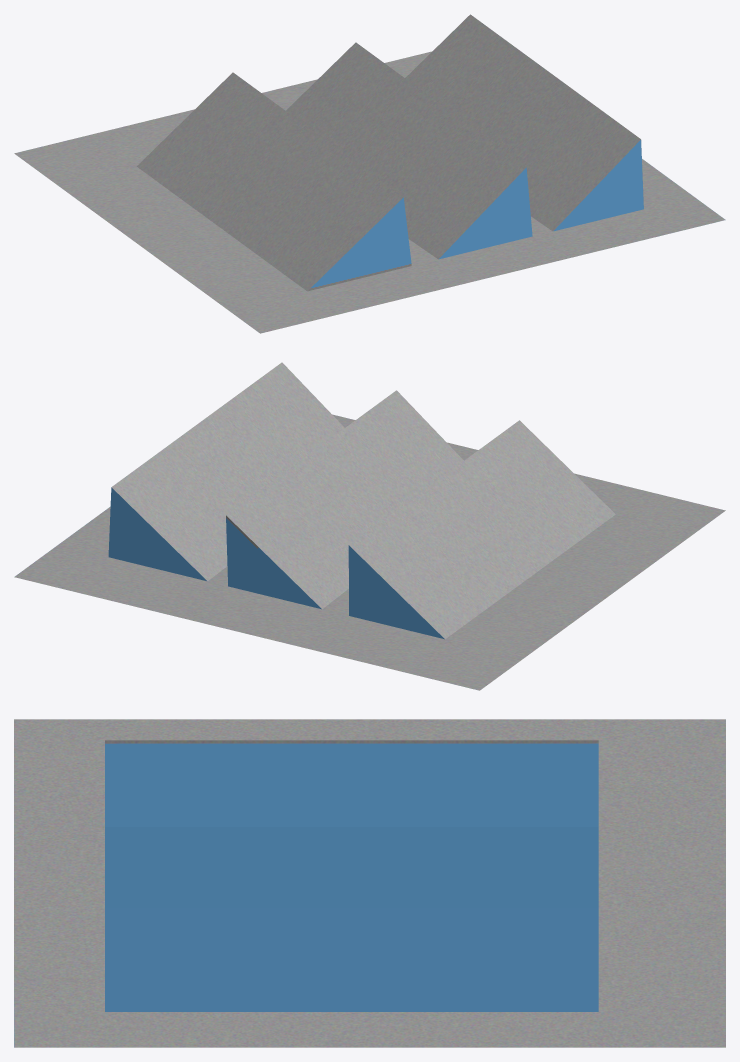
File: roof-model.fbx
The picture shows the model from 3 angles, top to bottom: view 1: azimuth 30°, elevation 25°; view 2: azimuth 150°, elevation 25°; view 3: azimuth 270°, elevation 25°; orthographic projection. The views are drawn at different scales.
Parts seen in each view (by area): view 1: roof-model-lp; view 2: roof-model-lp; view 3: roof-model-lp.
Part boxes in pixels (box(x1,y1,x2,y2)): roof-model-lp: box(14, 14, 725, 333); roof-model-lp: box(14, 362, 725, 690); roof-model-lp: box(14, 719, 725, 1047).
Size of the model in its own units: 1308 by 190 by 1198.
Materials: 1 (1 with a texture image).
